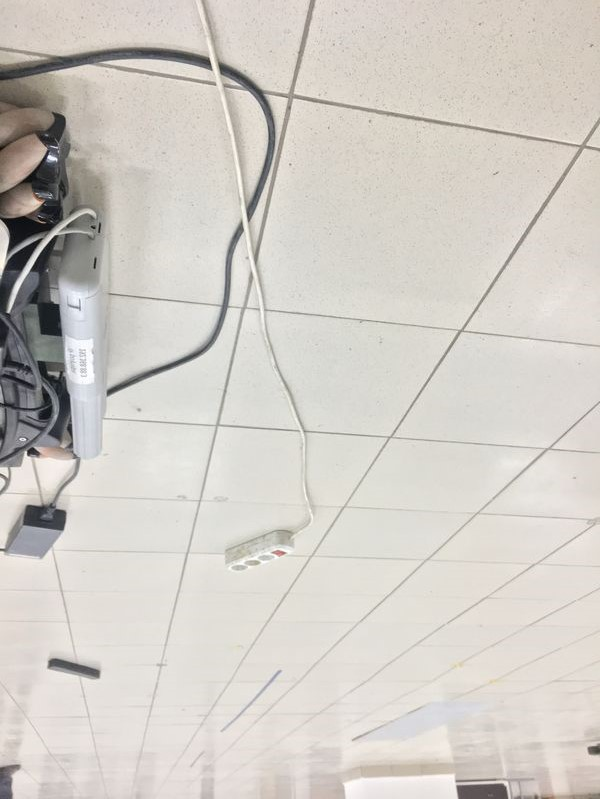socket: (214, 522, 297, 575)
